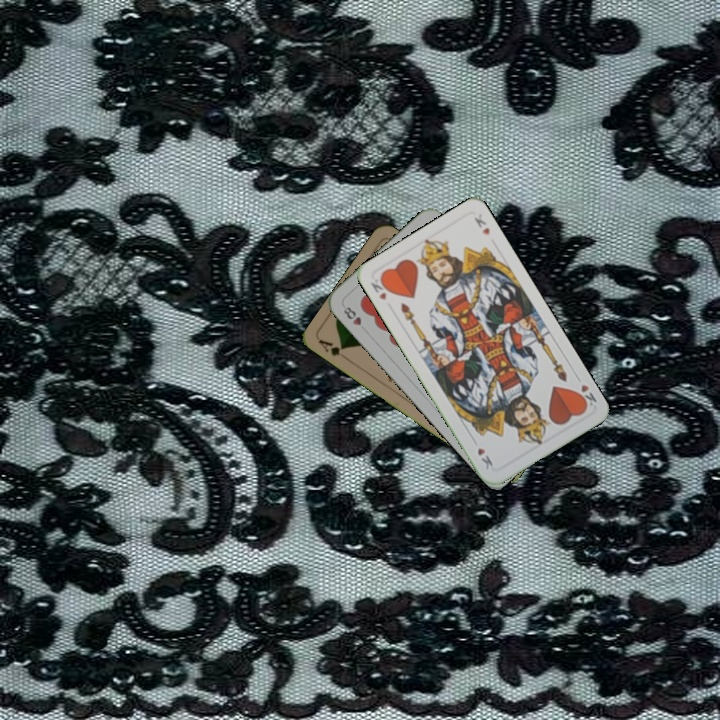GA: (315, 335, 352, 363)
H8: (339, 303, 364, 328)
HK: (572, 371, 599, 410), (367, 273, 393, 303)
